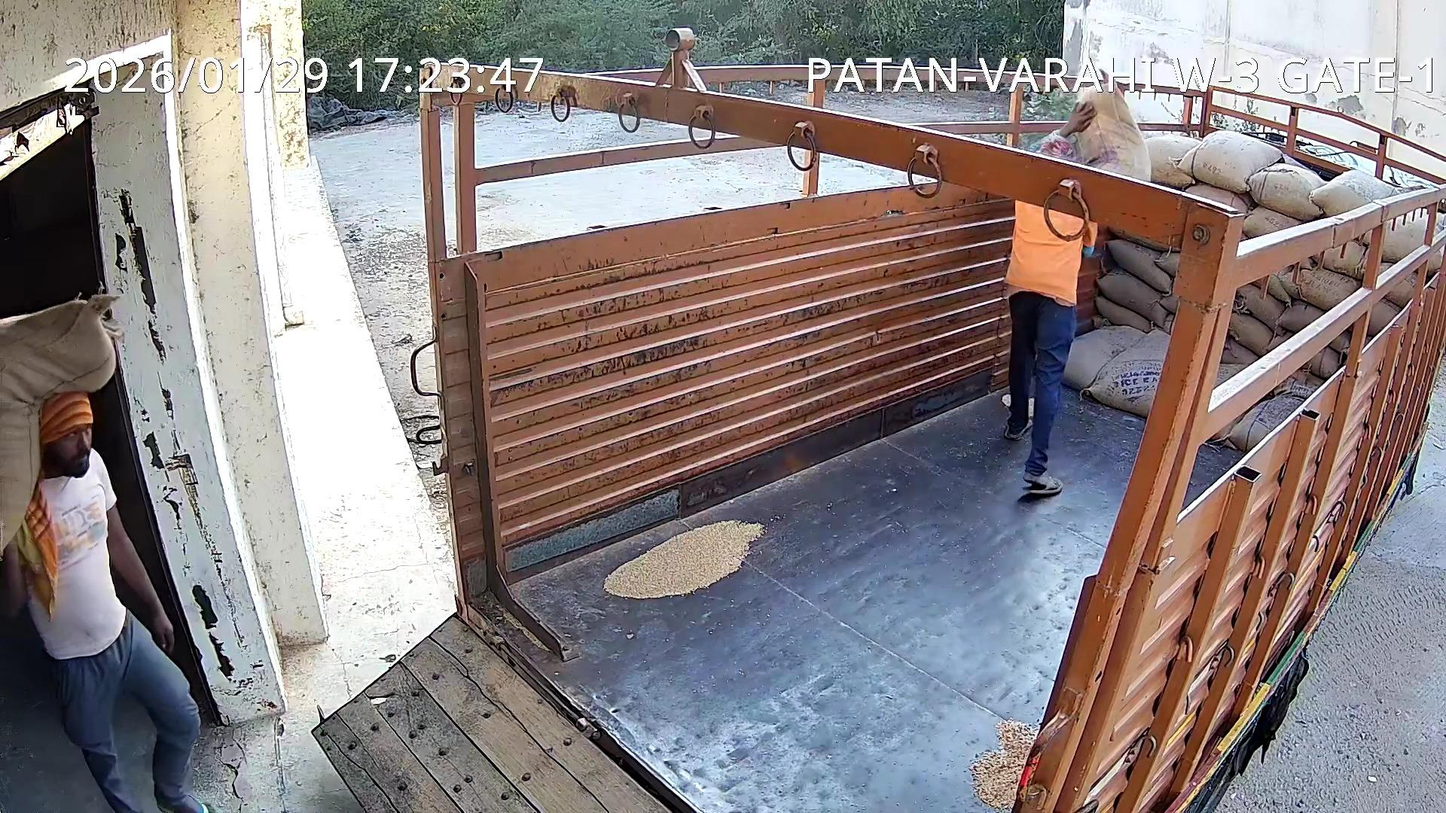Sack: (0, 294, 118, 541)
